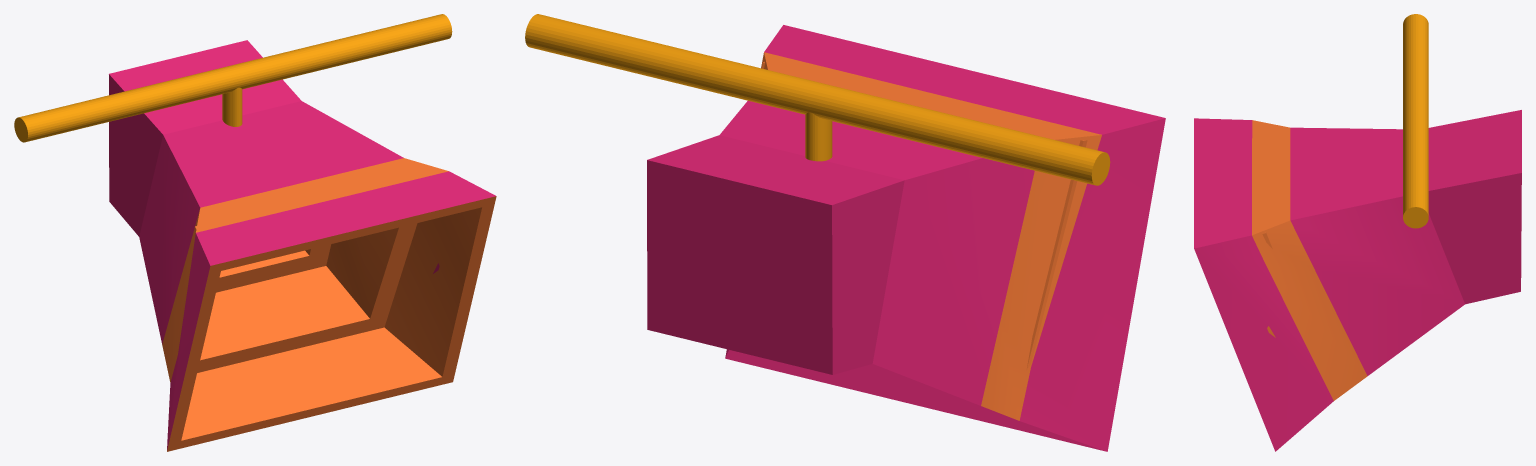
Rendered from vacuum3.fbx.
The picture shows the model from 3 angles, left to right: view 1: azimuth 30°, elevation 25°; view 2: azimuth 150°, elevation 25°; view 3: azimuth 270°, elevation 25°; orthographic projection. The views are drawn at different scales.
Visible parts, largest first — view 1: Usisivac1.002; view 2: Usisivac1.002; view 3: Usisivac1.002.
Boxes of the visible parts, bbox=[...] form: Usisivac1.002: bbox=[14, 14, 496, 451]; Usisivac1.002: bbox=[525, 14, 1165, 451]; Usisivac1.002: bbox=[1194, 14, 1521, 451].
Bounding box in the file's own units: 185 × 123 × 133.
